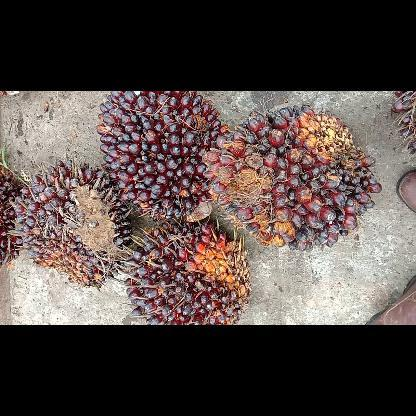Kurang masak: (203, 102, 384, 254), (8, 155, 138, 292), (94, 90, 228, 222), (121, 216, 254, 324)
